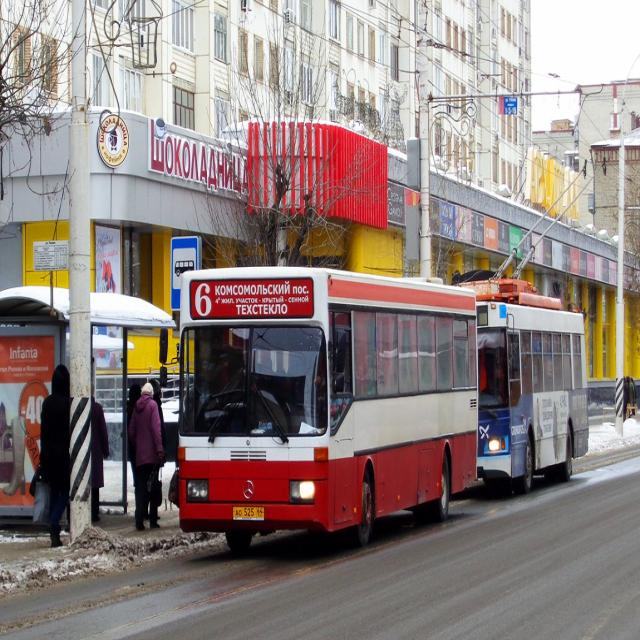number-of-bus: (195, 277, 213, 321)
